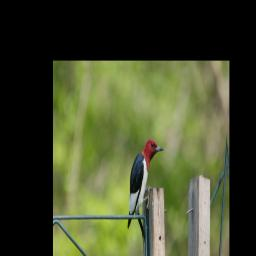Woodpecker: (125, 138, 165, 229)
